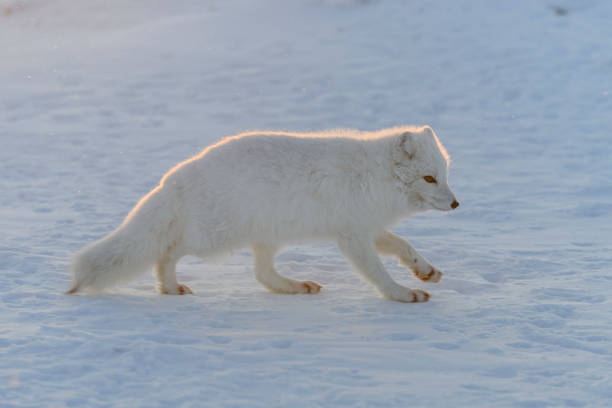arcticfox: (387, 136, 473, 232)
